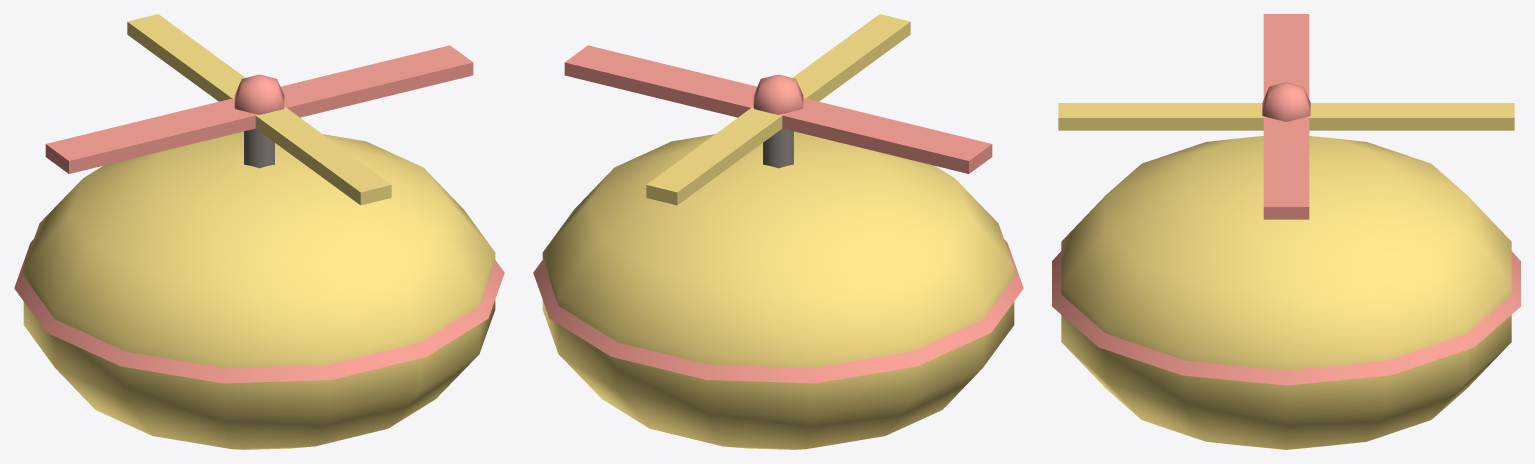
Rendered from hat_propeller.glb.
The picture shows the model from 3 angles, left to right: view 1: azimuth 30°, elevation 25°; view 2: azimuth 150°, elevation 25°; view 3: azimuth 270°, elevation 25°; orthographic projection. The views are drawn at different scales.
Parts seen in each view (by area): view 1: hat_propeller; view 2: hat_propeller; view 3: hat_propeller.
Part boxes in pixels (bbox=[...]): hat_propeller: bbox=[14, 14, 504, 449]; hat_propeller: bbox=[533, 14, 1023, 449]; hat_propeller: bbox=[1052, 14, 1520, 449].
Bounding box in the file's own units: 27.4 × 21.1 × 26.71.
